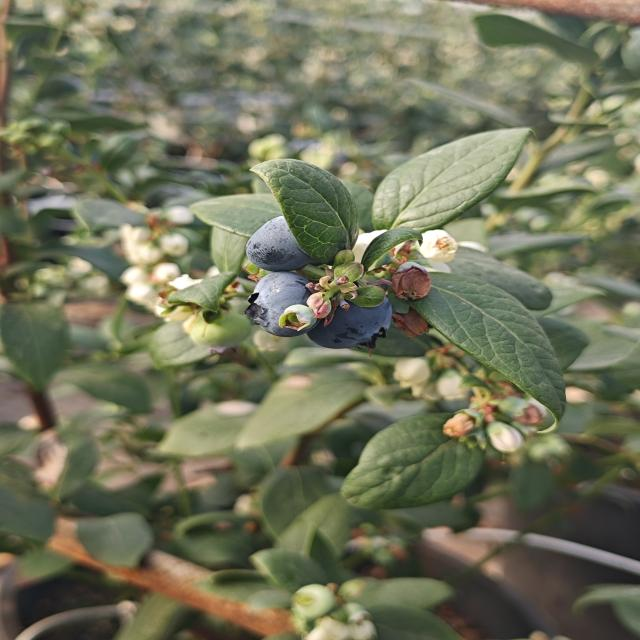ripe: (304, 290, 395, 352), (243, 270, 320, 340), (242, 214, 317, 273)
